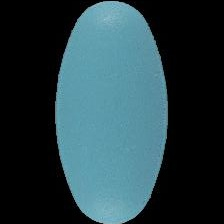43353-599: (0, 0, 224, 224)
